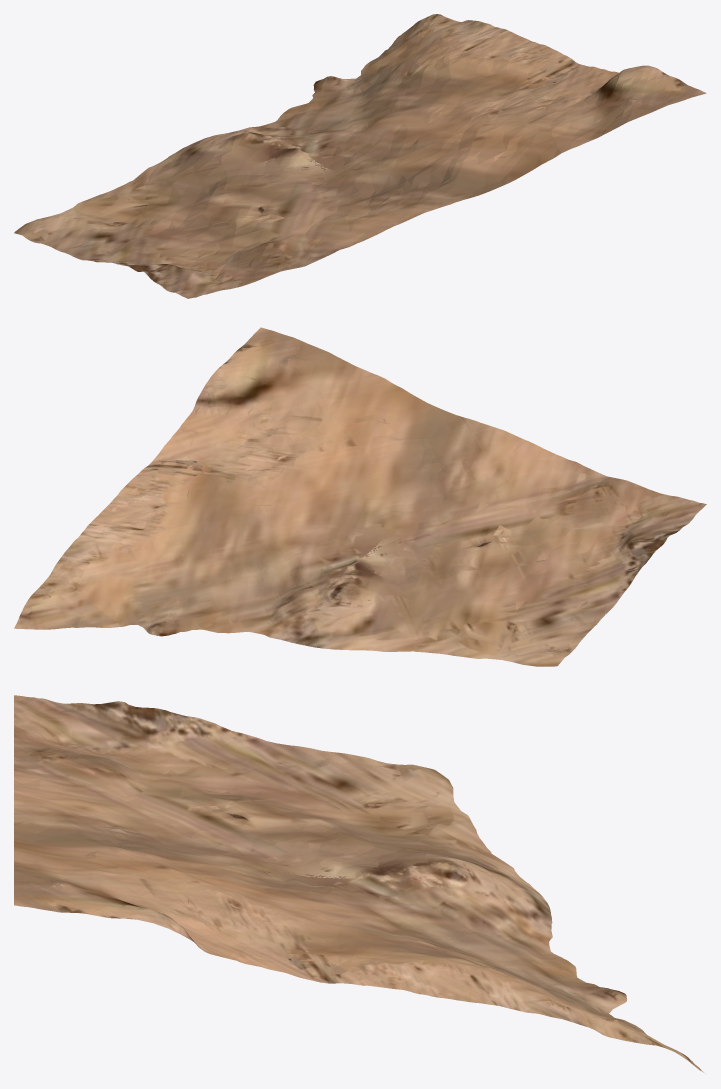
The picture shows the model from 3 angles, top to bottom: view 1: azimuth 30°, elevation 25°; view 2: azimuth 150°, elevation 25°; view 3: azimuth 270°, elevation 25°; orthographic projection. The views are drawn at different scales.
Bounding box in the file's own units: 2.09 × 0.5402 × 2.
2 materials, 2 textured.
